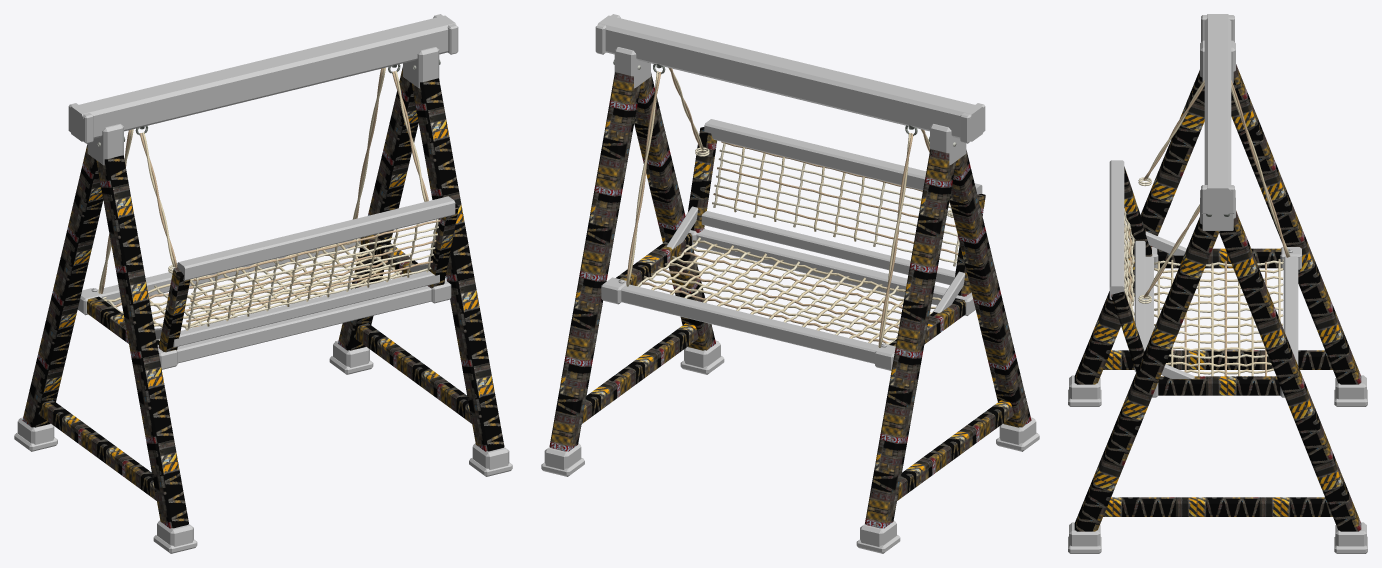
File: DH_Woven_Joali_Swing.fbx
3 views of the same model, side by side, from view 1: azimuth 30°, elevation 25°; view 2: azimuth 150°, elevation 25°; view 3: azimuth 270°, elevation 25° (orthographic). The views are drawn at different scales.
Parts seen in each view (by area): view 1: Model_Geometry; view 2: Model_Geometry; view 3: Model_Geometry.
Boxes of the visible parts, x1=… form: Model_Geometry: x1=14, y1=14, x2=512, y2=553; Model_Geometry: x1=541, y1=14, x2=1039, y2=553; Model_Geometry: x1=1068, y1=14, x2=1367, y2=553.
Bounding box in the file's own units: 1.65 × 1.65 × 1.2.
